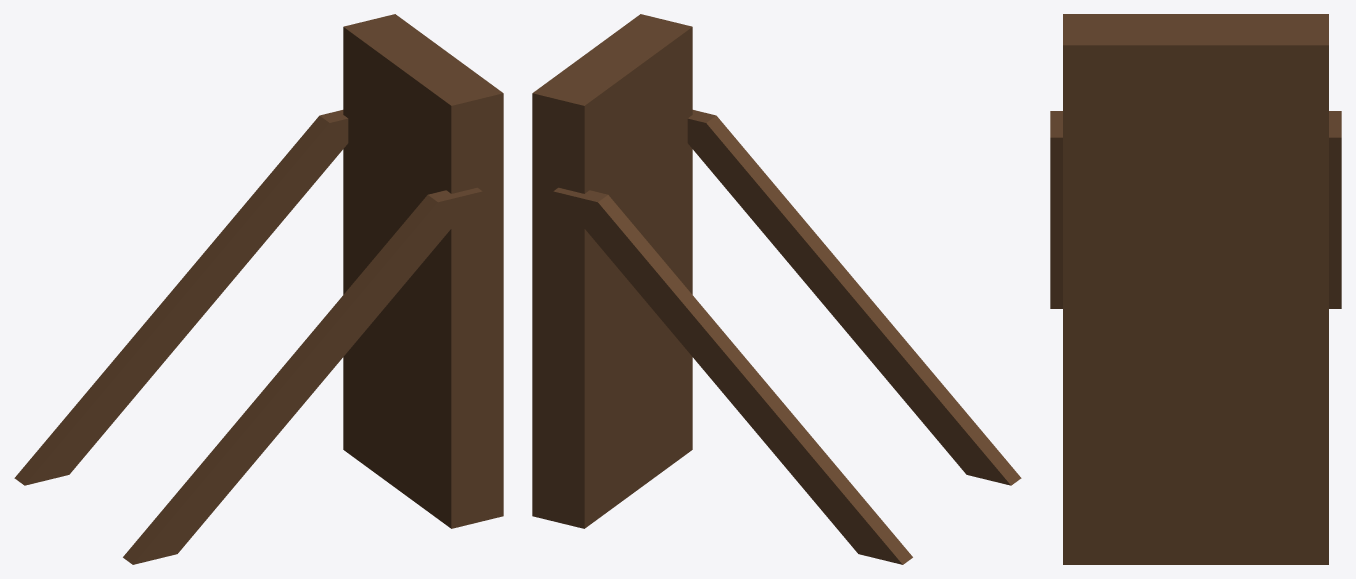
Rendered from FrameGable0.fbx.
The picture shows the model from 3 angles, left to right: view 1: azimuth 30°, elevation 25°; view 2: azimuth 150°, elevation 25°; view 3: azimuth 270°, elevation 25°; orthographic projection. The views are drawn at different scales.
Parts seen in each view (by area): view 1: Kit_FrameGable0; view 2: Kit_FrameGable0; view 3: Kit_FrameGable0.
Part boxes in pixels (x1,y1,x2,y2): Kit_FrameGable0: (14,14,503,564); Kit_FrameGable0: (532,14,1021,564); Kit_FrameGable0: (1050,14,1341,564).
Bounding box in the file's own units: 0.505 × 0.5433 × 0.276.
